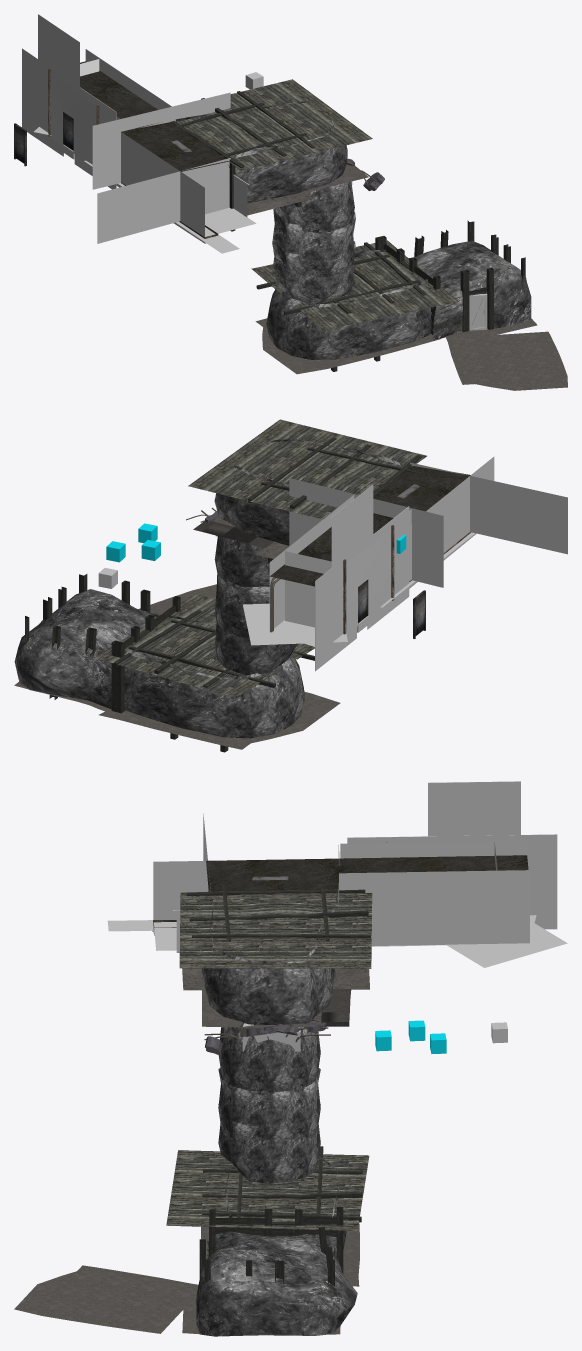
File: level00_00_vr_tutorial.dae
The picture shows the model from 3 angles, top to bottom: view 1: azimuth 30°, elevation 25°; view 2: azimuth 150°, elevation 25°; view 3: azimuth 270°, elevation 25°; orthographic projection. The views are drawn at different scales.
Visible parts, largest first — view 1: pPlane1_noshadow, Box03_noshadow1, polySurface346, polySurface350_noshadow2, polySurface28_noshadow1, pPlane1_noshadow1, Box03_noshadow, Box03_noshadow3, polySurface772, polySurface28_noshadow, Box03_noshadow2, Object28_noshadow1 (+20 smaller); view 2: pPlane1_noshadow, Box03_noshadow1, polySurface346, pPlane1_noshadow1, polySurface28_noshadow1, polySurface358, pCube8, Box03_noshadow, polySurface98, polySurface350_noshadow1, Box03_noshadow4, Object28_noshadow1 (+16 smaller); view 3: polySurface346, pPlane1_noshadow, polySurface43_noshadow, pPlane1_noshadow1, polySurface350_noshadow2, Box03_noshadow, pCube8, Box03_noshadow2, Box03_noshadow3, Box03_noshadow4, Object28_noshadow1, pCube7 (+11 smaller).
Part boxes in pixels (left/top/right/bottom): pPlane1_noshadow: left=176, top=79, right=372, bottom=170; Box03_noshadow1: left=266, top=249, right=431, bottom=359; polySurface346: left=408, top=241, right=531, bottom=339; polySurface350_noshadow2: left=445, top=331, right=567, bottom=390; polySurface28_noshadow1: left=97, top=158, right=230, bottom=243; pPlane1_noshadow1: left=251, top=240, right=458, bottom=330; Box03_noshadow: left=175, top=101, right=347, bottom=203; Box03_noshadow3: left=272, top=209, right=355, bottom=277; polySurface772: left=93, top=93, right=230, bottom=189; polySurface28_noshadow: left=121, top=132, right=204, bottom=236; Box03_noshadow2: left=274, top=181, right=354, bottom=232; Object28_noshadow1: left=122, top=122, right=228, bottom=171; pPlane1_noshadow: left=188, top=419, right=426, bottom=519; Box03_noshadow1: left=124, top=615, right=304, bottom=738; polySurface346: left=14, top=589, right=160, bottom=709; pPlane1_noshadow1: left=94, top=593, right=314, bottom=697; polySurface28_noshadow1: left=410, top=462, right=567, bottom=554; polySurface358: left=289, top=478, right=443, bottom=587; pCube8: left=331, top=484, right=373, bottom=607; Box03_noshadow: left=214, top=439, right=404, bottom=545; polySurface98: left=346, top=530, right=391, bottom=633; polySurface350_noshadow1: left=99, top=691, right=340, bottom=749; Box03_noshadow4: left=214, top=619, right=297, bottom=675; Object28_noshadow1: left=373, top=466, right=470, bottom=511; polySurface346: left=196, top=1231, right=357, bottom=1336; pPlane1_noshadow: left=179, top=892, right=372, bottom=968; polySurface43_noshadow: left=339, top=870, right=529, bottom=945; pPlane1_noshadow1: left=166, top=1150, right=369, bottom=1230; polySurface350_noshadow2: left=14, top=1265, right=198, bottom=1333; Box03_noshadow: left=202, top=892, right=337, bottom=1025; pCube8: left=428, top=781, right=520, bottom=841; Box03_noshadow2: left=218, top=1027, right=320, bottom=1092; Box03_noshadow3: left=218, top=1068, right=320, bottom=1139; Box03_noshadow4: left=218, top=1104, right=320, bottom=1183; Object28_noshadow1: left=206, top=858, right=339, bottom=892; pCube7: left=464, top=834, right=557, bottom=929.
Size of what is drawn, in the model's own units: 28.06 by 19.18 by 26.01.
